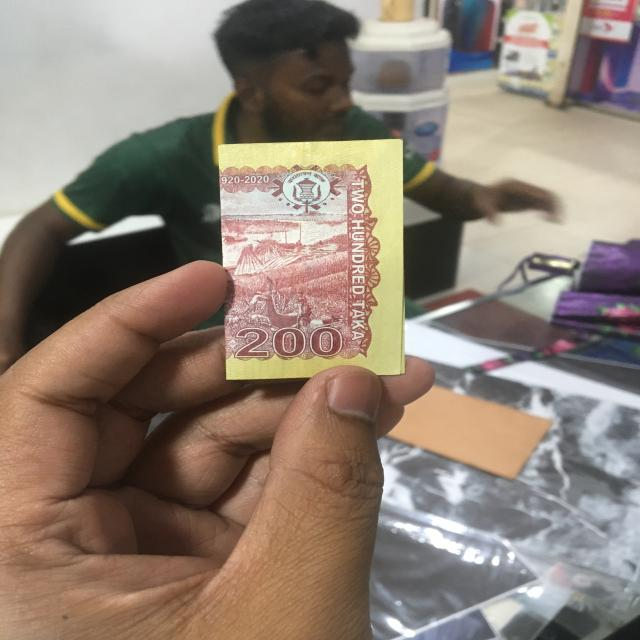Taka: (215, 143, 414, 373)
